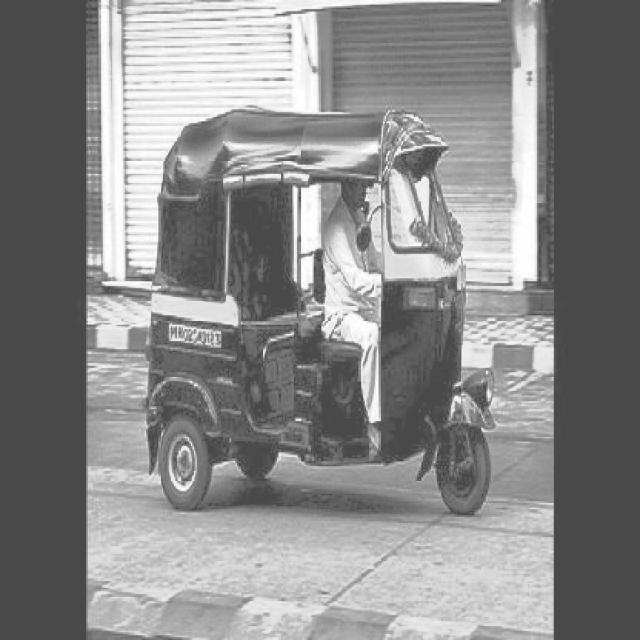Auto-Rickshaw: (146, 103, 496, 515)
